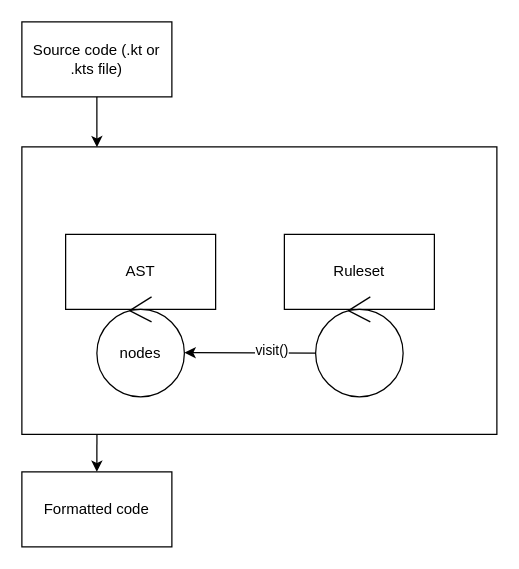
Image size: 519x569. Some labels were removed from this diagram. Here are the shapes that lost their labels. From the top down, the box of each, then its label:
(21, 146, 497, 434): ktlint
(314, 296, 403, 397): rules
